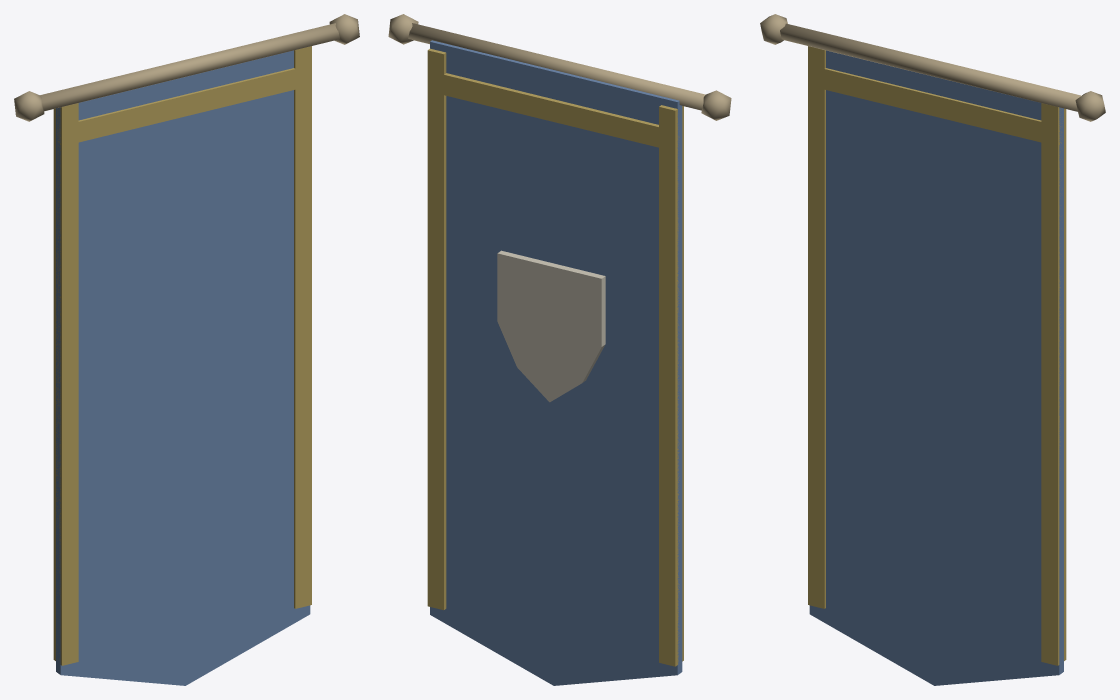
File: etherian_javelin_thrower_banner_v0.glb
3 renders of one model, left to right at view 1: azimuth 30°, elevation 25°; view 2: azimuth 150°, elevation 25°; view 3: azimuth 330°, elevation 25°, orthographic.
Visible parts, largest first — view 1: etherian_javelin_thrower_banner_v0; view 2: etherian_javelin_thrower_banner_v0; view 3: etherian_javelin_thrower_banner_v0.
Boxes of the visible parts, x1,y1,x2,y2 form: etherian_javelin_thrower_banner_v0: (14, 14, 359, 685); etherian_javelin_thrower_banner_v0: (388, 14, 731, 685); etherian_javelin_thrower_banner_v0: (760, 14, 1105, 685).
Bounding box in the file's own units: 1.04 × 1.84 × 0.0933.
